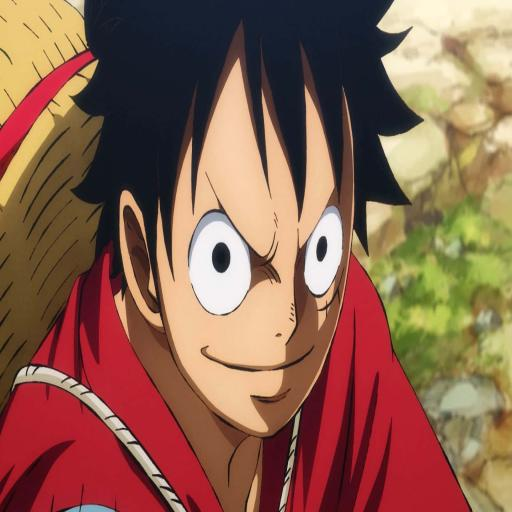Luffy: (0, 0, 431, 512)
